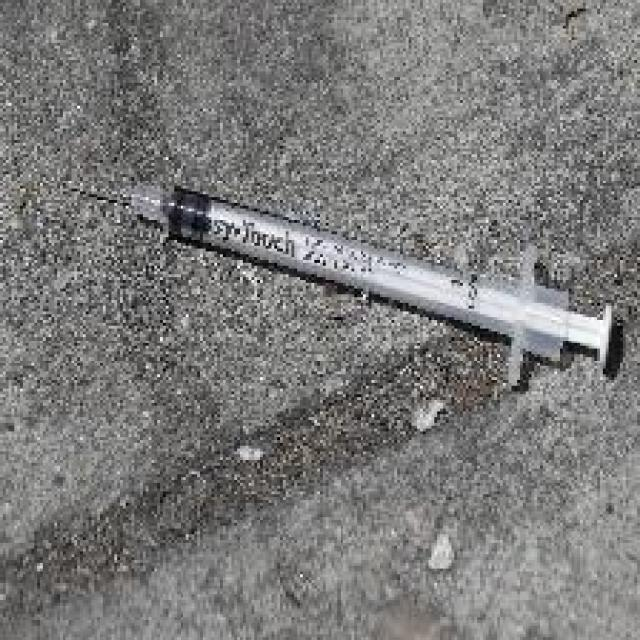syringe: (63, 152, 620, 415)
